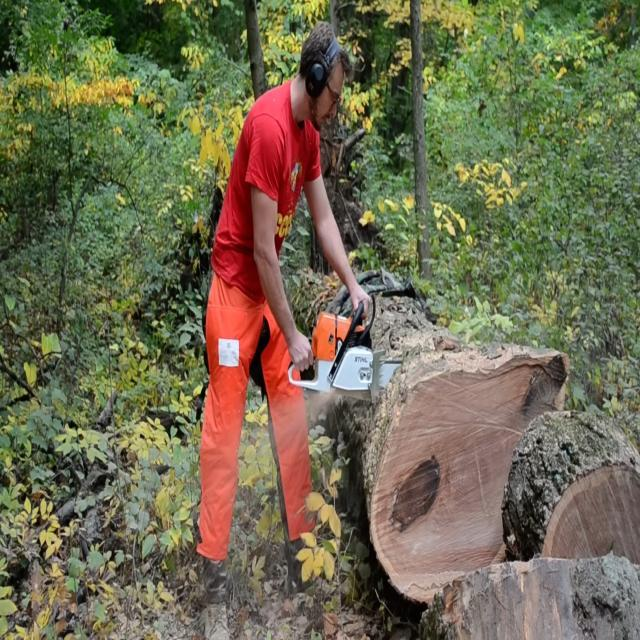Chainsaw: (282, 284, 434, 424)
